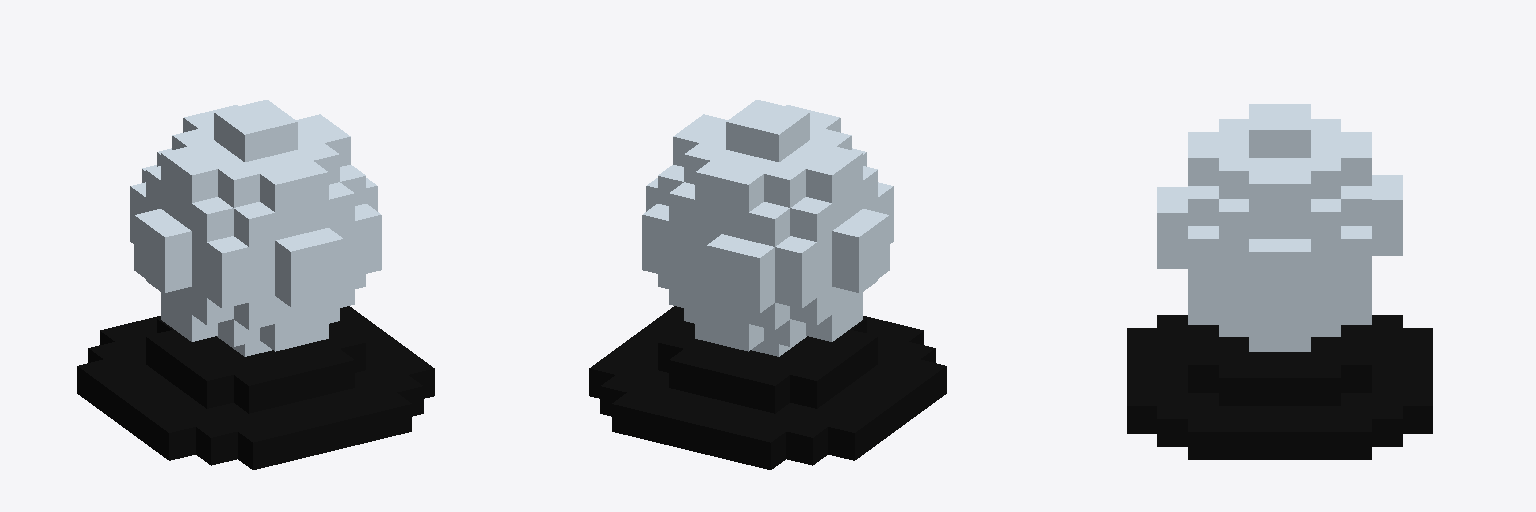
The picture shows the model from 3 angles: view 1: azimuth 30°, elevation 25°; view 2: azimuth 150°, elevation 25°; view 3: azimuth 270°, elevation 25°; orthographic projection.
Visible parts, largest first — view 1: MagShar; view 2: MagShar; view 3: MagShar.
Boxes of the visible parts, x1,y1,x2,y2 form: MagShar: [77, 100, 434, 469]; MagShar: [589, 100, 946, 469]; MagShar: [1127, 104, 1432, 459].
Size of the model in its own units: 1 by 1 by 1.
1 materials, 1 textured.